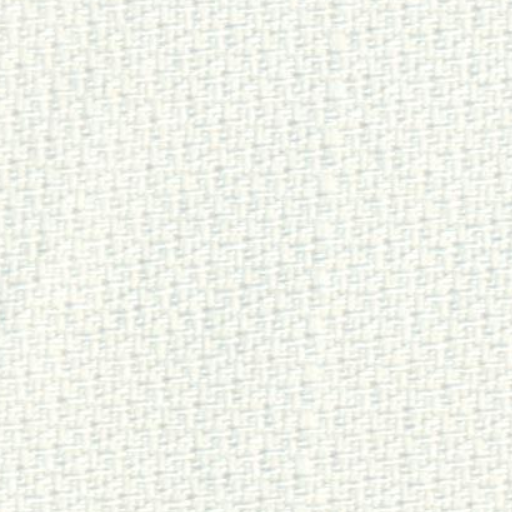TuoSha: (272, 10, 368, 502)
